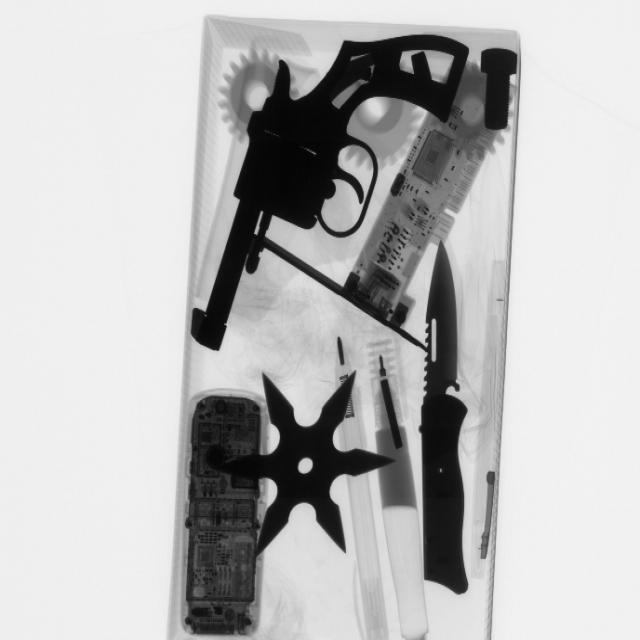GUN: (193, 31, 472, 356)
KNIFE: (407, 255, 480, 594)
SHURIKEN: (219, 371, 389, 567)
